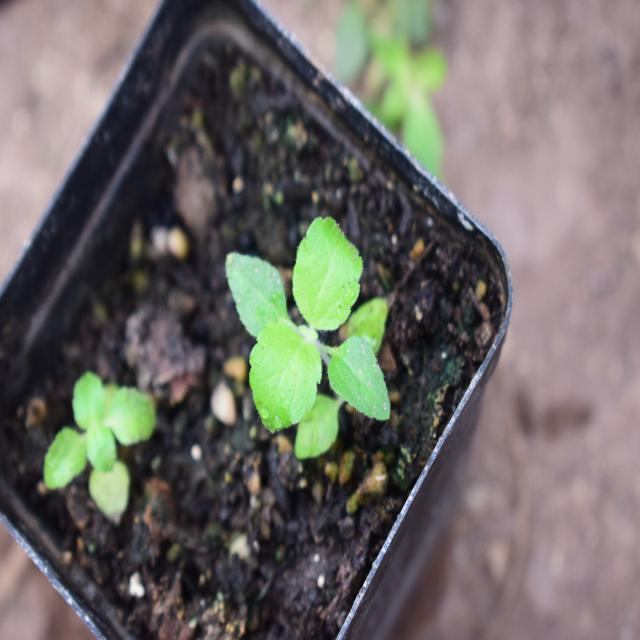billygoat_weed: (220, 218, 410, 453)
